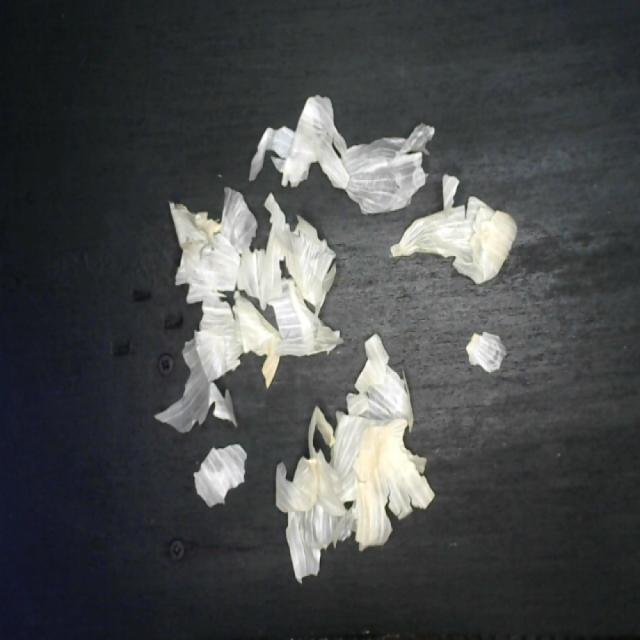biodegradable: (148, 85, 523, 590)
